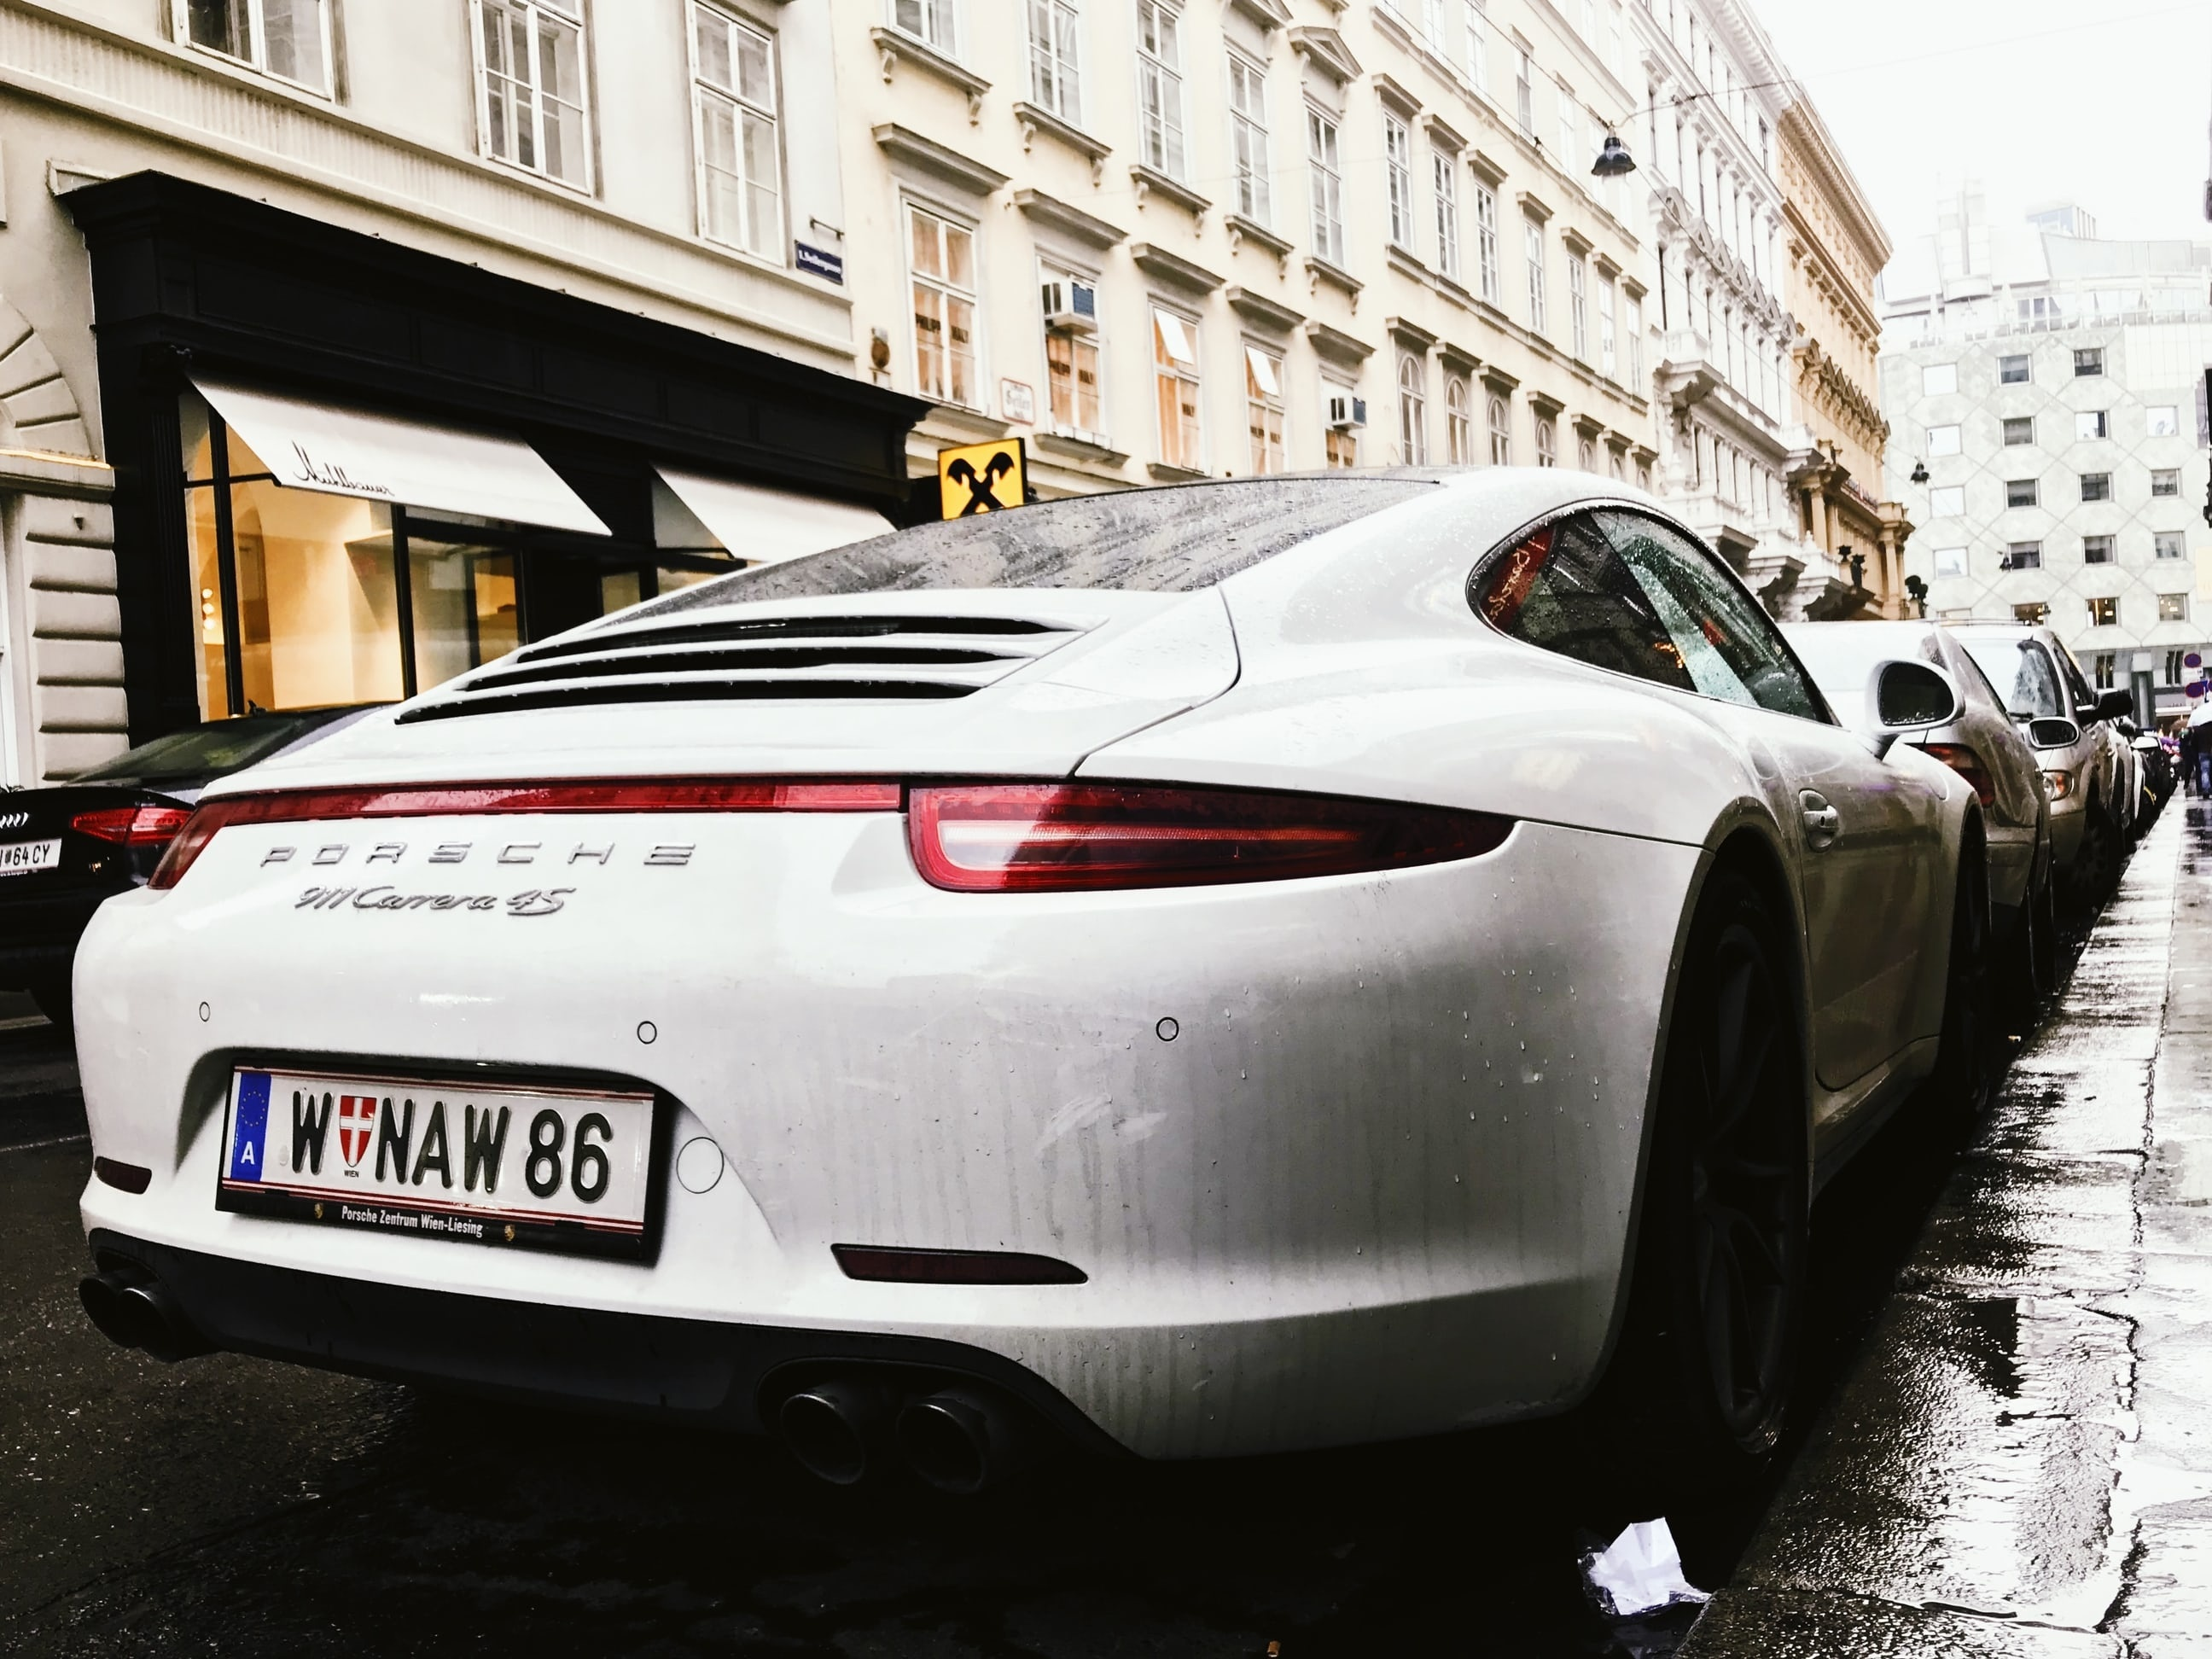plaka: (212, 1062, 667, 1239)
